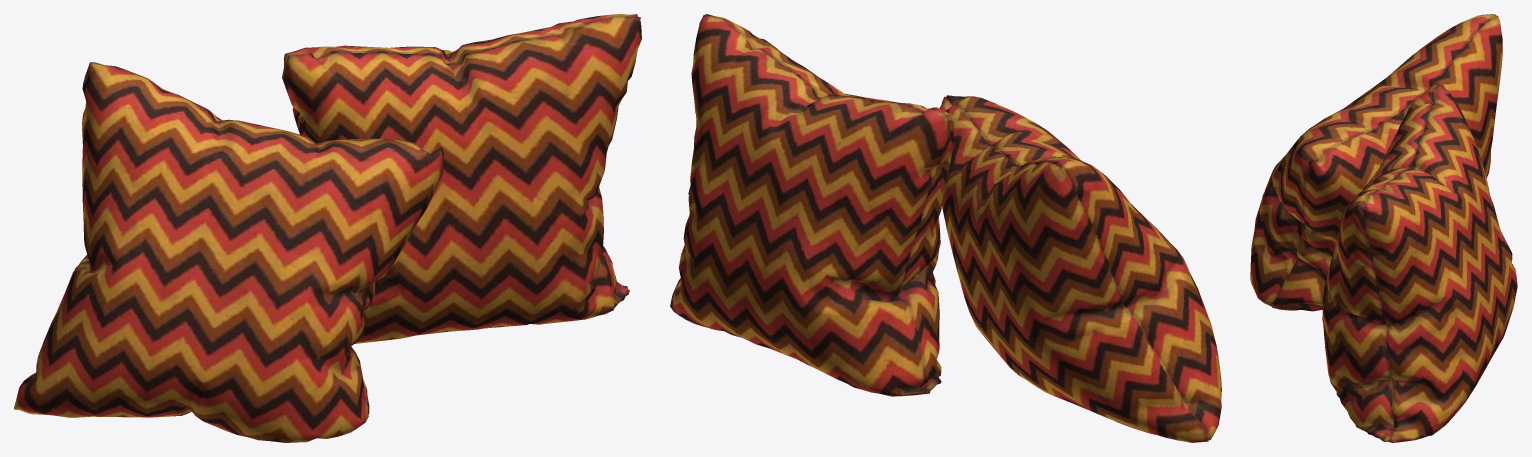
File: throw_pillows_01.glb
3 renders of one model, left to right at view 1: azimuth 30°, elevation 25°; view 2: azimuth 150°, elevation 25°; view 3: azimuth 270°, elevation 25°, orthographic. The views are drawn at different scales.
Parts seen in each view (by area): view 1: throw_pillows_01_pillow02; view 2: throw_pillows_01_pillow02; view 3: throw_pillows_01_pillow02.
Boxes of the visible parts, bbox=[...] form: throw_pillows_01_pillow02: bbox=[14, 14, 641, 442]; throw_pillows_01_pillow02: bbox=[670, 14, 1221, 442]; throw_pillows_01_pillow02: bbox=[1250, 14, 1517, 442].
Bounding box in the file's own units: 0.9401 × 0.4502 × 0.4518.
Materials: 1 (1 with a texture image).
